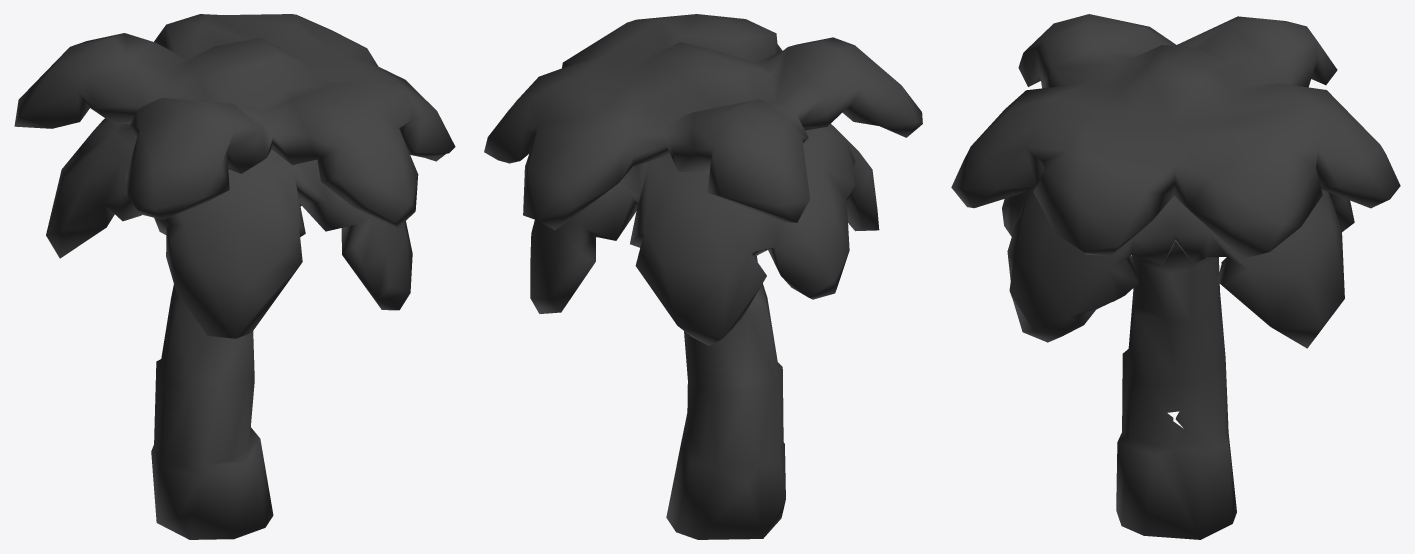
File: tree_palm.glb
3 views of the same model, side by side, from view 1: azimuth 30°, elevation 25°; view 2: azimuth 150°, elevation 25°; view 3: azimuth 270°, elevation 25° (orthographic). The views are drawn at different scales.
Parts seen in each view (by area): view 1: geometry_0; view 2: geometry_0; view 3: geometry_0.
Boxes of the visible parts, x1=… form: geometry_0: x1=14, y1=14, x2=455, y2=539; geometry_0: x1=484, y1=14, x2=922, y2=539; geometry_0: x1=951, y1=14, x2=1400, y2=539.
Size of the model in its own units: 0.8792 by 1.15 by 1.
1 material, 1 textured.
